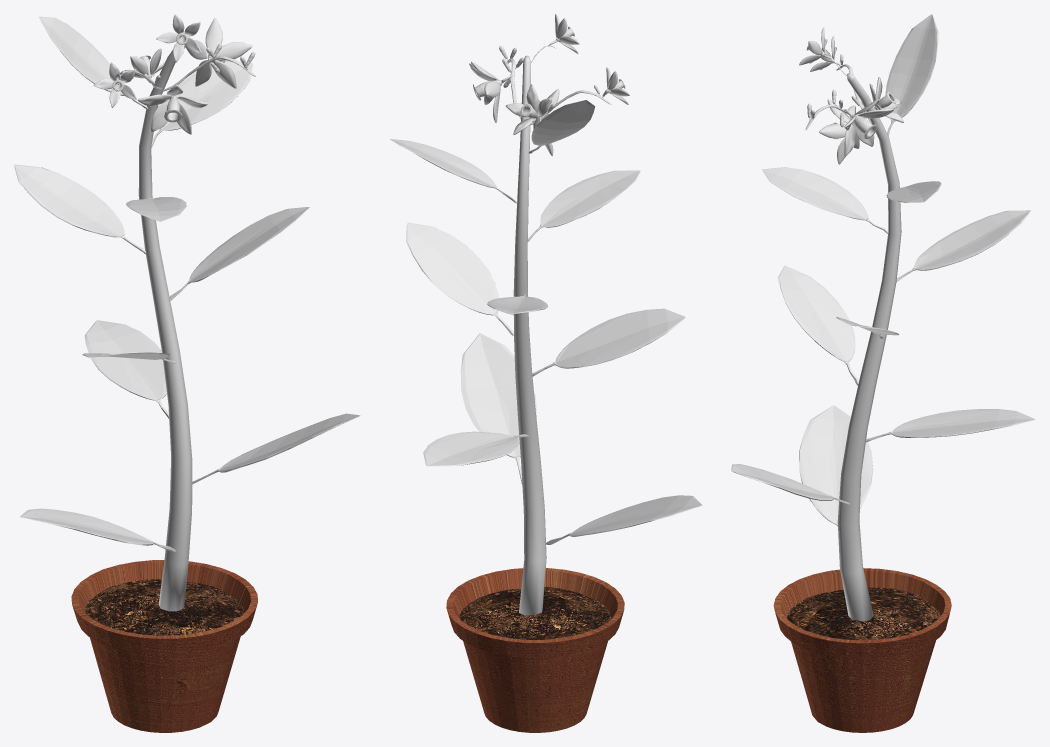
Rendered from vanillaPlanifolia.fbx.
3 renders of one model, left to right at view 1: azimuth 30°, elevation 25°; view 2: azimuth 150°, elevation 25°; view 3: azimuth 270°, elevation 25°, orthographic. The views are drawn at different scales.
Parts seen in each view (by area): view 1: VanillaPlanifolia; view 2: VanillaPlanifolia; view 3: VanillaPlanifolia.
Part boxes in pixels (bbox=[...]): VanillaPlanifolia: bbox=[14, 14, 360, 732]; VanillaPlanifolia: bbox=[390, 14, 702, 732]; VanillaPlanifolia: bbox=[731, 14, 1035, 732].
Size of the model in its own units: 340 by 774 by 315.
